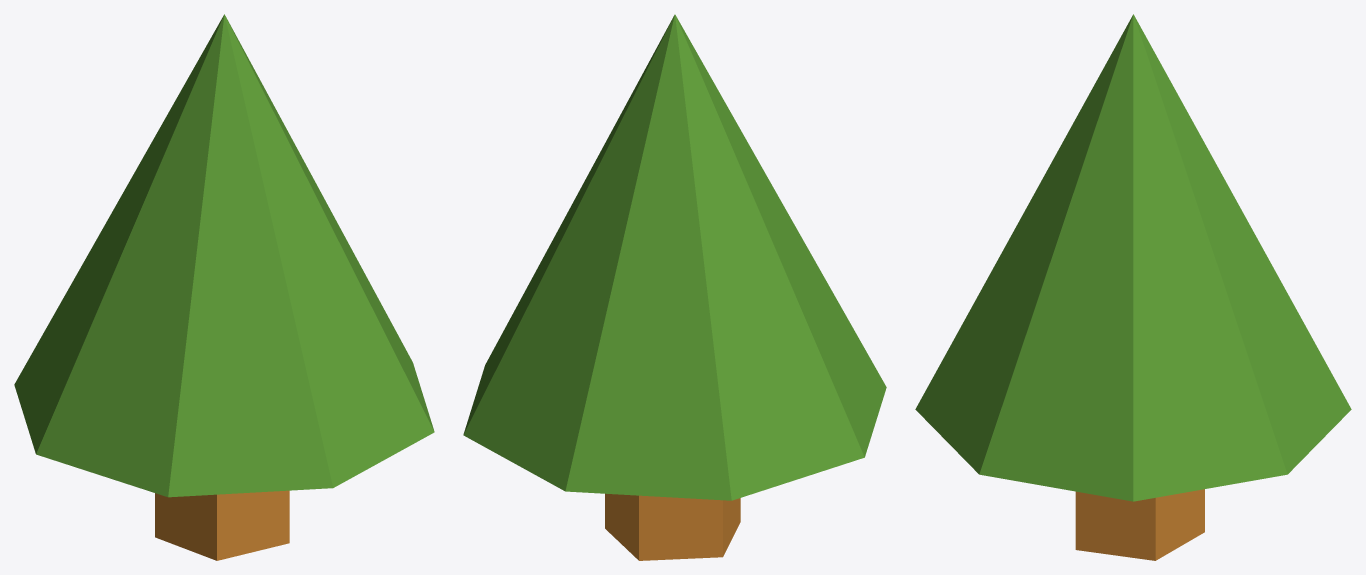
The model's file is Tree_Cone_1.glb.
3 views of the same model, side by side, from view 1: azimuth 30°, elevation 25°; view 2: azimuth 150°, elevation 25°; view 3: azimuth 270°, elevation 25° (orthographic).
Visible parts, largest first — view 1: Cone, Cylinder; view 2: Cone, Cylinder; view 3: Cone, Cylinder.
Boxes of the visible parts, x1,y1,x2,y2 form: Cone: (14,14,434,497); Cylinder: (155,490,289,560); Cone: (463,14,886,500); Cylinder: (605,493,740,560); Cone: (915,14,1351,501); Cylinder: (1075,489,1204,560).
Size of the model in its own units: 1.27 by 1.67 by 1.27.
